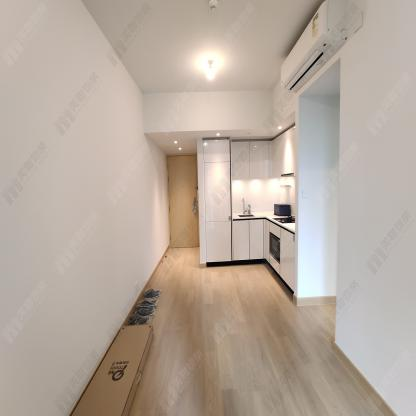AC: (280, 0, 363, 94)
